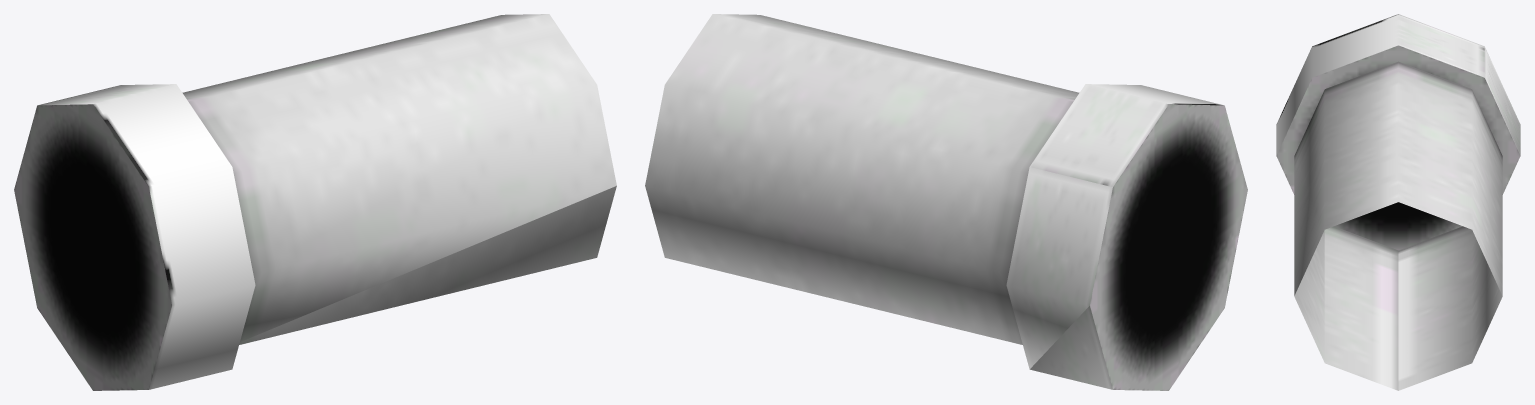
Rendered from Lower_Pipe_32.FBX.
The picture shows the model from 3 angles, left to right: view 1: azimuth 30°, elevation 25°; view 2: azimuth 150°, elevation 25°; view 3: azimuth 270°, elevation 25°; orthographic projection. The views are drawn at different scales.
Parts seen in each view (by area): view 1: Lower_Pipe_Big_32; view 2: Lower_Pipe_Big_32; view 3: Lower_Pipe_Big_32.
Boxes of the visible parts, left/top/right/bottom form: Lower_Pipe_Big_32: left=14, top=14, right=616, bottom=390; Lower_Pipe_Big_32: left=645, top=14, right=1247, bottom=390; Lower_Pipe_Big_32: left=1276, top=14, right=1520, bottom=390.
Size of the model in its own units: 32 by 19.2 by 19.2.
1 material, 1 textured.
